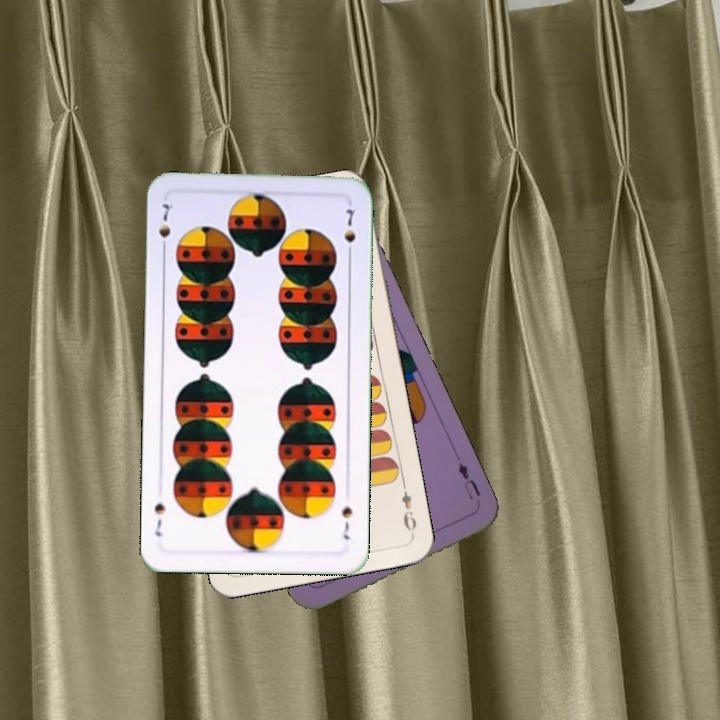E9: (397, 479, 420, 538)
EU: (454, 459, 483, 503)
S7: (154, 200, 176, 256), (338, 502, 355, 542)
